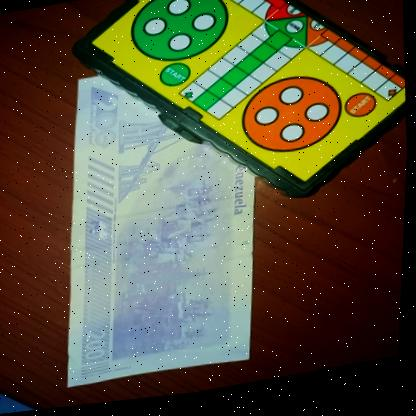two_hundred-back-vef: (49, 51, 274, 397)
